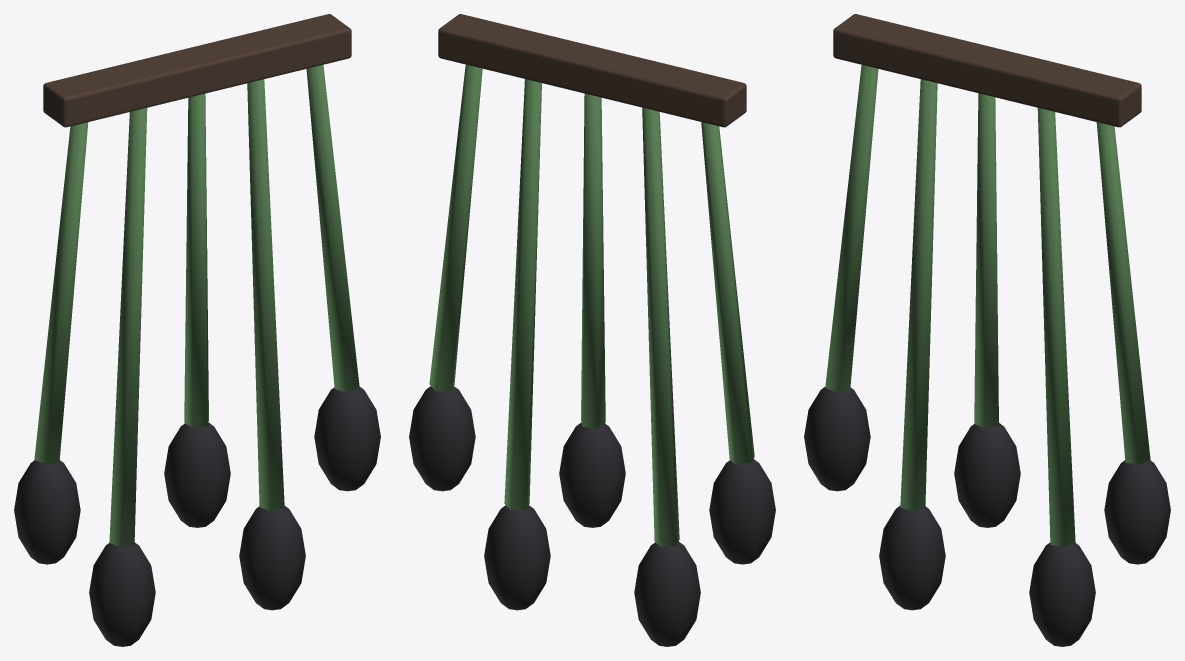
The model's file is hanging_herbs_nightshade.glb.
3 views of the same model, side by side, from view 1: azimuth 30°, elevation 25°; view 2: azimuth 150°, elevation 25°; view 3: azimuth 330°, elevation 25° (orthographic).
Visible parts, largest first — view 1: GD_hanging_herbs_nightshade__m1, GD_hanging_herbs_nightshade__m2, GD_hanging_herbs_nightshade__m0; view 2: GD_hanging_herbs_nightshade__m1, GD_hanging_herbs_nightshade__m2, GD_hanging_herbs_nightshade__m0; view 3: GD_hanging_herbs_nightshade__m1, GD_hanging_herbs_nightshade__m2, GD_hanging_herbs_nightshade__m0.
Part boxes in pixels (x1,y1,x2,y2): GD_hanging_herbs_nightshade__m1: (34,65,359,547); GD_hanging_herbs_nightshade__m2: (14,387,380,646); GD_hanging_herbs_nightshade__m0: (43,14,351,127); GD_hanging_herbs_nightshade__m1: (429,64,754,546); GD_hanging_herbs_nightshade__m2: (409,386,775,646); GD_hanging_herbs_nightshade__m0: (438,14,746,127); GD_hanging_herbs_nightshade__m1: (825,65,1150,547); GD_hanging_herbs_nightshade__m2: (804,387,1170,646); GD_hanging_herbs_nightshade__m0: (833,14,1141,127).
Bounding box in the file's own units: 0.364 × 0.569 × 0.06.
